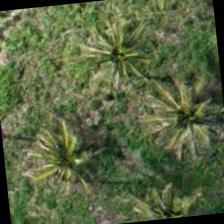Kelapa_Sawit: (20, 113, 119, 212), (67, 1, 166, 100), (130, 72, 223, 172)
